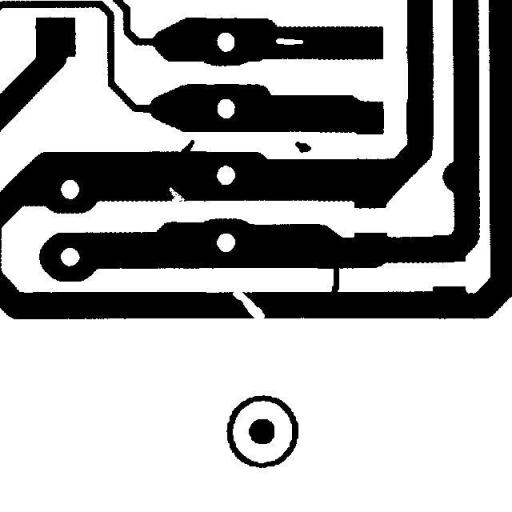copper: (288, 134, 318, 160)
mousebite: (162, 179, 192, 212)
open: (225, 281, 272, 326)
pin-hole: (268, 30, 310, 52)
short: (324, 254, 346, 302)
spur: (174, 132, 202, 163)
